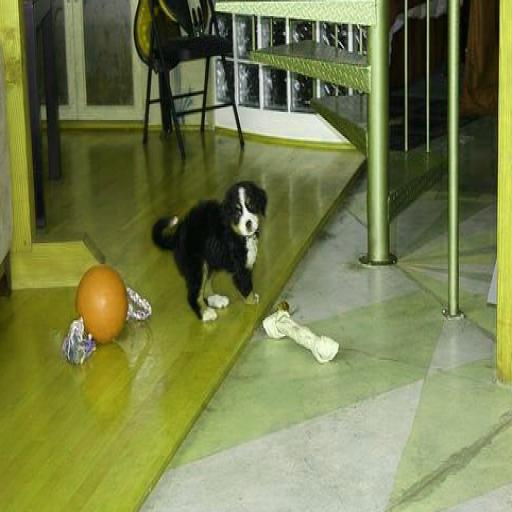dog_face: (222, 175, 272, 238)
